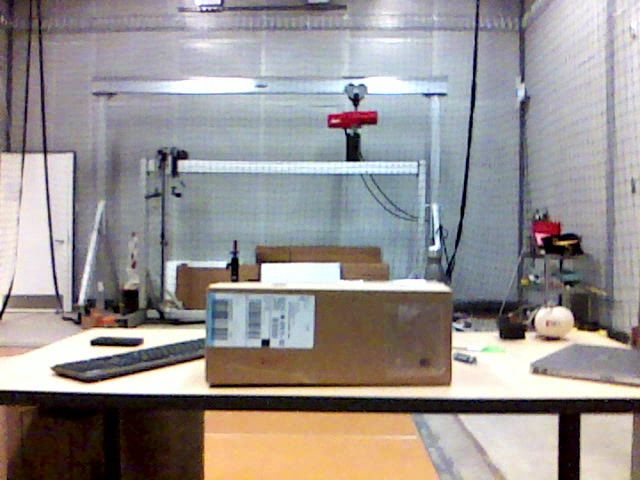box: (205, 282, 454, 389)
